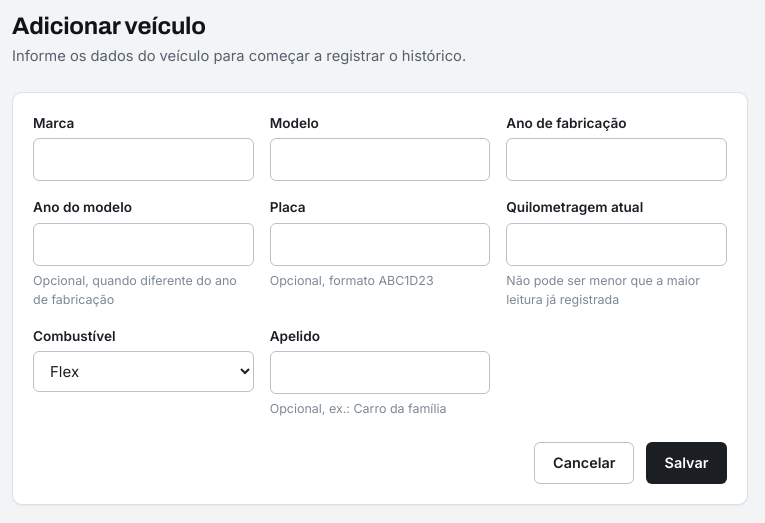
VehicleFormPage — creating › refuses a model year earlier than the manufacturing year
The width and height of the screenshot is (765, 523).
Type "Fiat" into the field labelled "Marca". click: (143, 160)
box: [33,138,254,181]
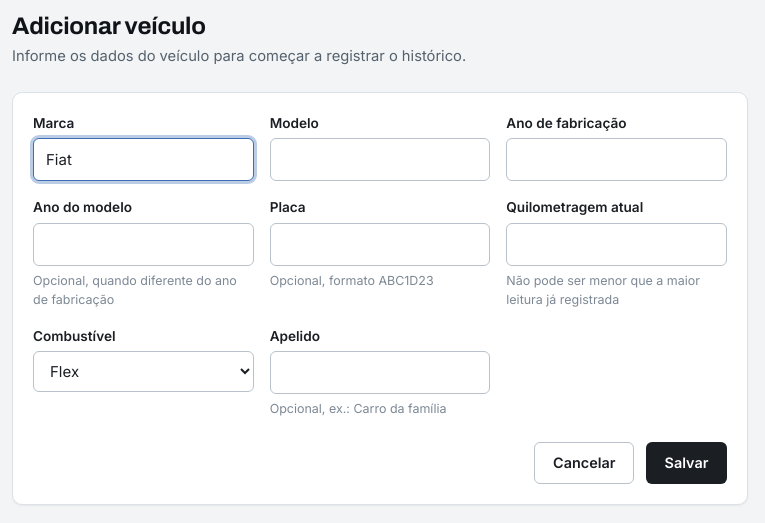
Type "Argo" into the field labelled "Modelo". click: (380, 160)
box: [270,138,490,181]
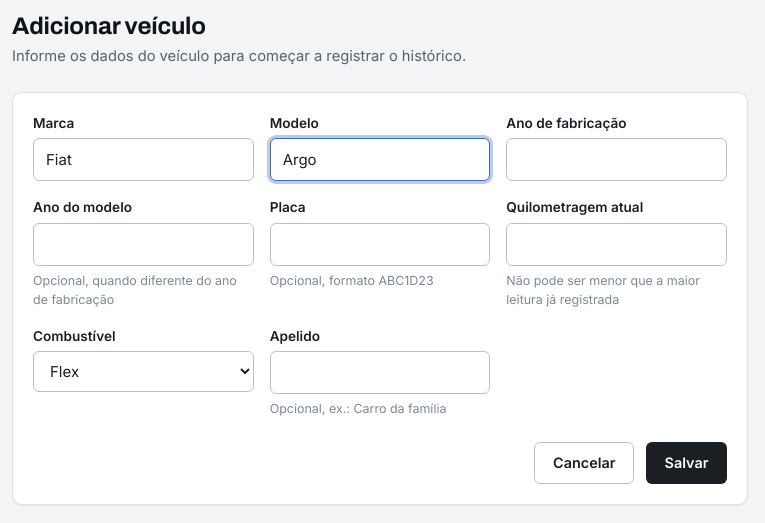
Type "2021" into the number field labelled "Ano de fabricação". click: (617, 160)
box: [506,138,727,181]
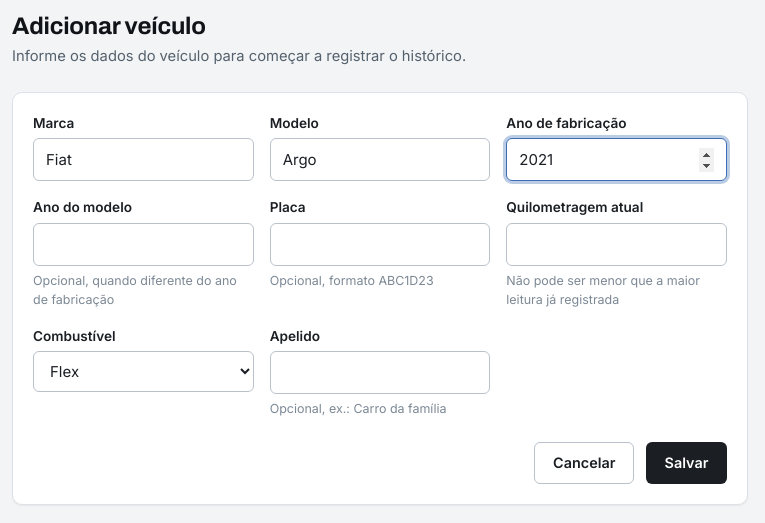
Type "45000" into the number field labelled "Quilometragem atual". click: (617, 245)
box: [506,223,727,266]
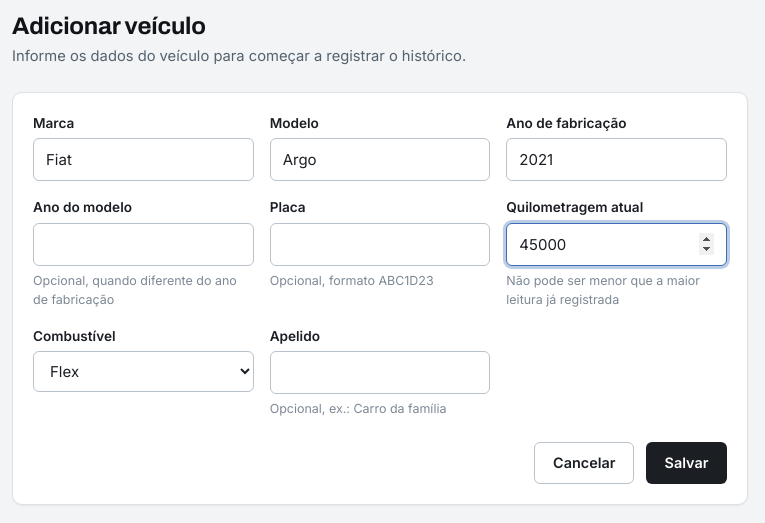
Type "2020" into the number field labelled "Ano do modelo". click: (143, 245)
box: [33,223,254,266]
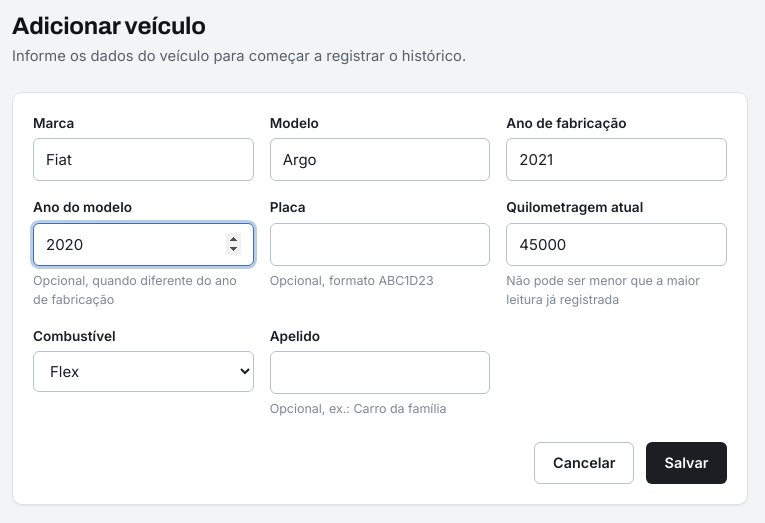
Click the button "Salvar". click: (686, 463)
box: [646,442,727,484]
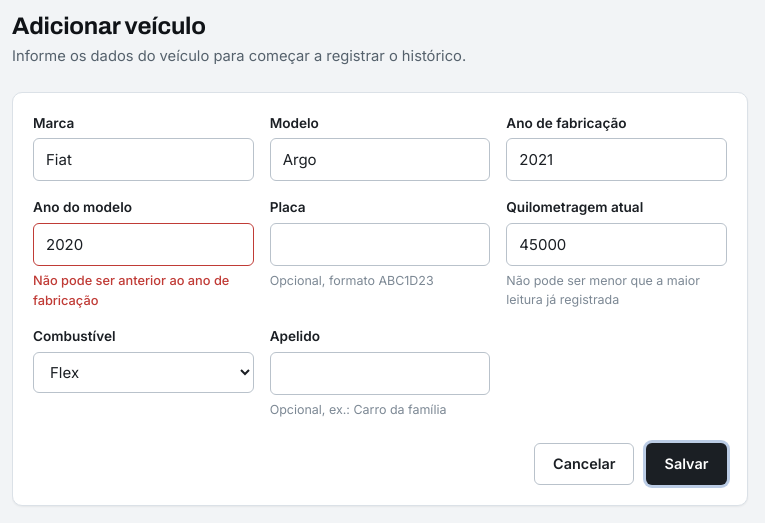
Expected: the text "Não pode ser anterior ao ano de fabricação" is shown, [33,271,254,310]
